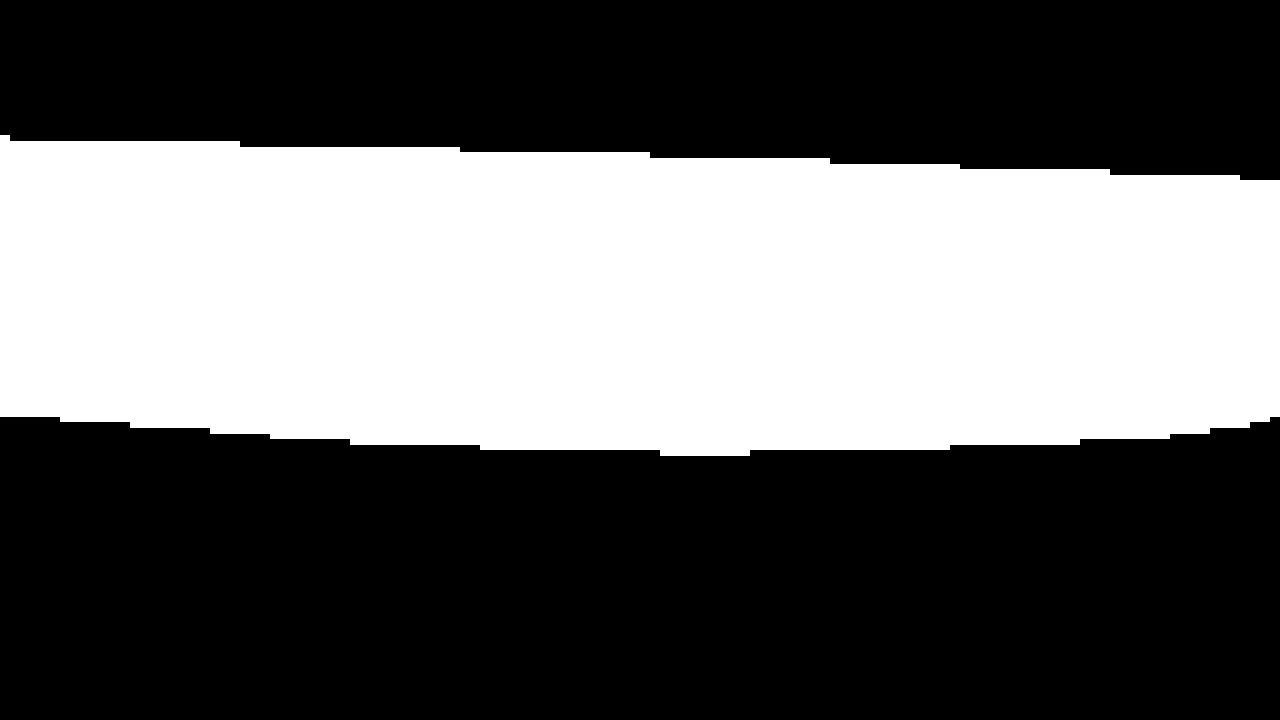Turbine: (6, 119, 1258, 455)
